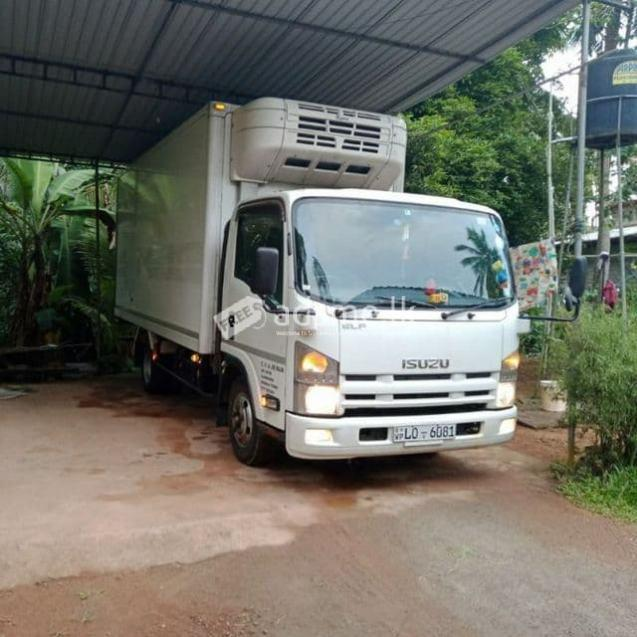truck: (114, 95, 521, 470)
